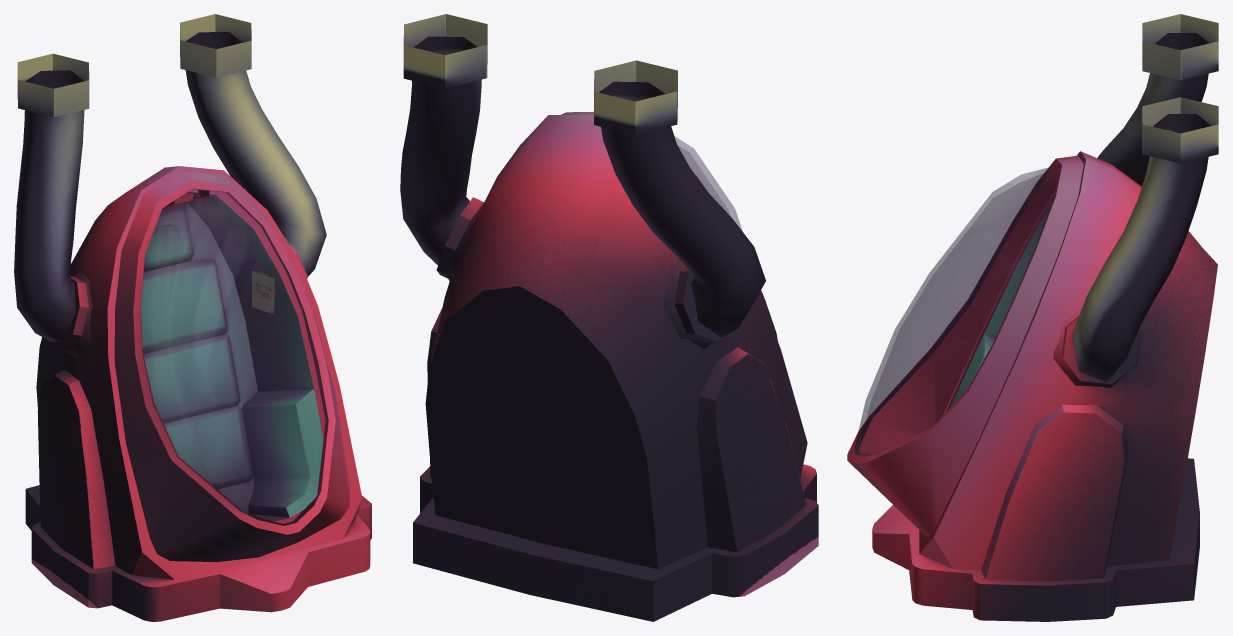
The model's file is CryoPod.glb.
3 views of the same model, side by side, from view 1: azimuth 30°, elevation 25°; view 2: azimuth 150°, elevation 25°; view 3: azimuth 270°, elevation 25° (orthographic). The views are drawn at different scales.
Parts seen in each view (by area): view 1: CryoPod, CryoPod_Door, CryoPod_Note; view 2: CryoPod, CryoPod_Door; view 3: CryoPod, CryoPod_Door.
Boxes of the visible parts, box(x1,y1,x2,y2) form: CryoPod: box(14, 14, 371, 621); CryoPod_Door: box(114, 171, 350, 562); CryoPod_Note: box(252, 271, 274, 314); CryoPod: box(400, 14, 818, 621); CryoPod_Door: box(561, 111, 777, 340); CryoPod: box(872, 14, 1218, 621); CryoPod_Door: box(847, 155, 1117, 537).
Bounding box in the file's own units: 1.8 × 2.61 × 1.85.
2 materials, 2 textured.
